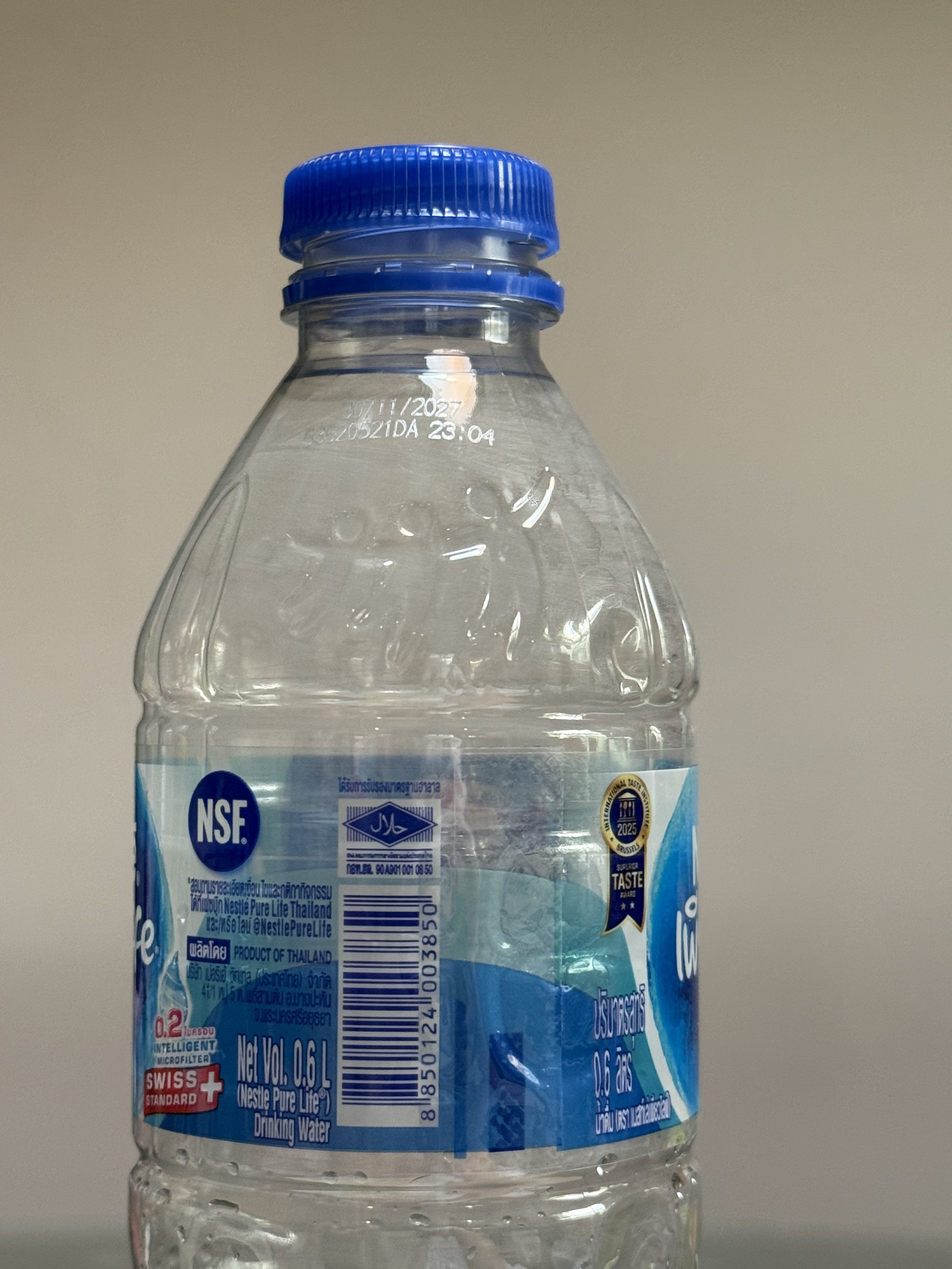half_cap: (266, 134, 573, 327)
